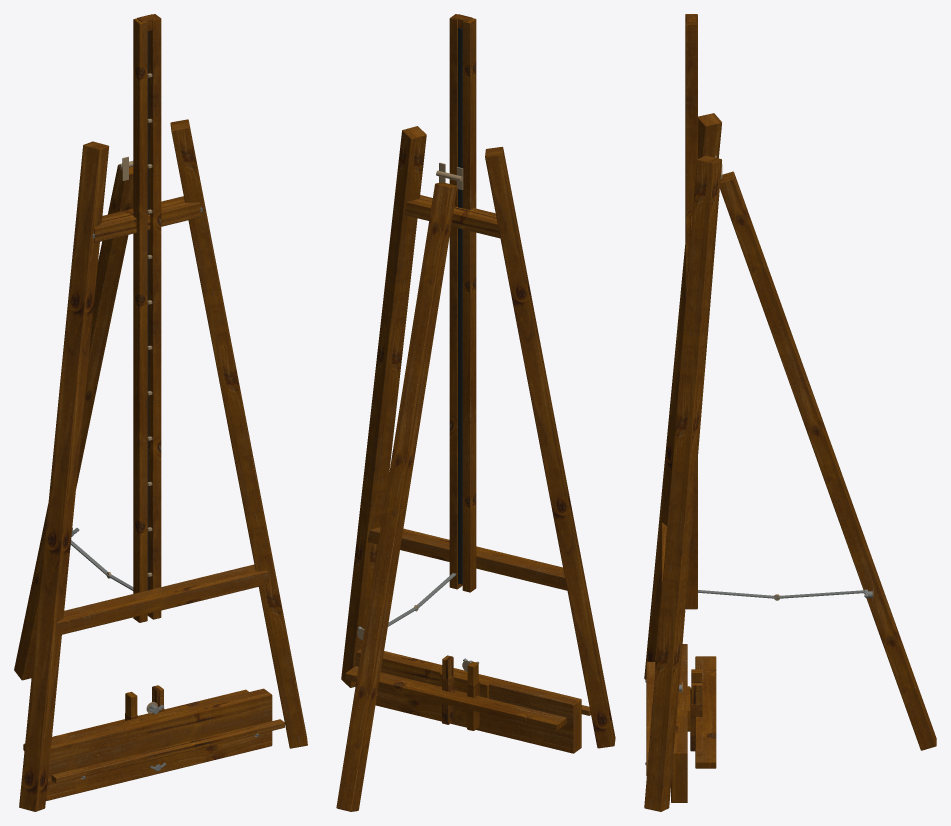
Rendered from crafted-easel.glb.
3 renders of one model, left to right at view 1: azimuth 30°, elevation 25°; view 2: azimuth 150°, elevation 25°; view 3: azimuth 270°, elevation 25°, orthographic. The views are drawn at different scales.
Visible parts, largest first — view 1: Left splayed front leg, Right splayed front leg, Canvas ledge, Left sliding mast guide, Right sliding mast guide, Hinged rear support, Lower mortised stretcher, Canvas retaining lip, Upper mortised stretcher, Recessed mast rack, Shelf back rail; view 2: Hinged rear support, Right splayed front leg, Left splayed front leg, Left sliding mast guide, Canvas ledge, Right sliding mast guide, Lower mortised stretcher, Shelf back rail, Recessed mast rack, Upper mortised stretcher; view 3: Right splayed front leg, Hinged rear support, Left splayed front leg, Right sliding mast guide, Shelf back rail, Canvas ledge, Canvas retaining lip.
Part boxes in pixels (x1,y1,x2,y2): Left splayed front leg: (19,141,109,811); Right splayed front leg: (170,119,307,748); Canvas ledge: (46,688,272,800); Left sliding mast guide: (133,18,147,622); Right sliding mast guide: (147,14,161,619); Hinged rear support: (14,164,133,680); Lower mortised stretcher: (57,564,268,635); Canvas retaining lip: (51,719,284,783); Upper mortised stretcher: (94,196,200,242); Recessed mast rack: (147,31,148,590); Shelf back rail: (23,689,248,750); Hinged rear support: (336,182,457,811); Right splayed front leg: (341,126,426,687); Left splayed front leg: (485,146,615,748); Left sliding mast guide: (462,18,476,592); Canvas ledge: (356,648,581,753); Right sliding mast guide: (449,14,462,589); Lower mortised stretcher: (364,527,570,590); Shelf back rail: (345,666,566,730); Recessed mast rack: (458,27,462,584); Upper mortised stretcher: (404,195,500,238); Right splayed front leg: (644,155,721,811); Hinged rear support: (720,171,936,750); Left splayed front leg: (644,113,721,679); Right sliding mast guide: (685,20,697,609); Shelf back rail: (695,656,716,768); Canvas ledge: (671,644,687,802); Canvas retaining lip: (646,662,655,775).
Bounding box in the file's own units: 0.9287 × 2.31 × 0.8377.
Materials: 4 (1 with a texture image).
